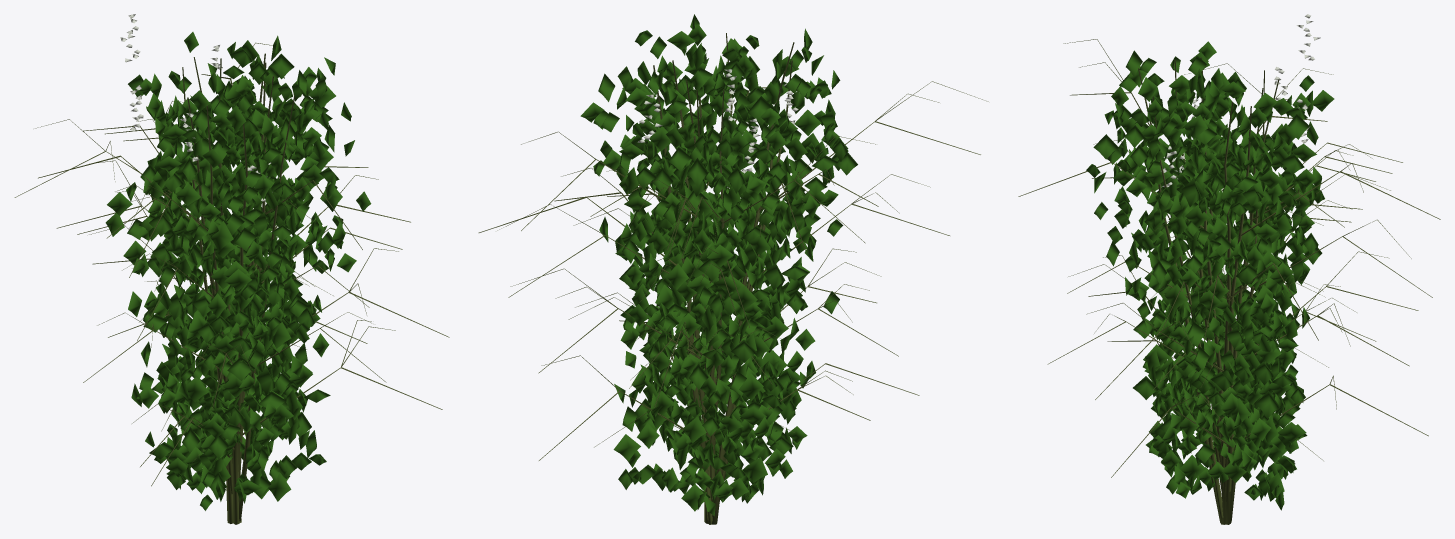
Rendered from Shrub_SweetPepperbush.glb.
3 renders of one model, left to right at view 1: azimuth 30°, elevation 25°; view 2: azimuth 150°, elevation 25°; view 3: azimuth 270°, elevation 25°, orthographic. The views are drawn at different scales.
Parts seen in each view (by area): view 1: Shrub_SweetPepperbush; view 2: Shrub_SweetPepperbush; view 3: Shrub_SweetPepperbush.
Boxes of the visible parts, <box> form: Shrub_SweetPepperbush: <box>14,14,449,524</box>; Shrub_SweetPepperbush: <box>478,14,988,524</box>; Shrub_SweetPepperbush: <box>1018,14,1440,524</box>.
Size of the model in its own units: 1.72 by 2.17 by 1.74.
